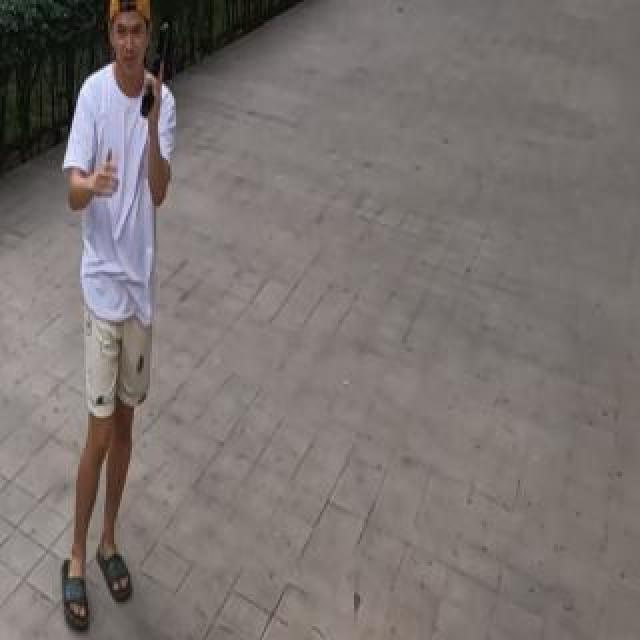Guns: (138, 16, 176, 129)
